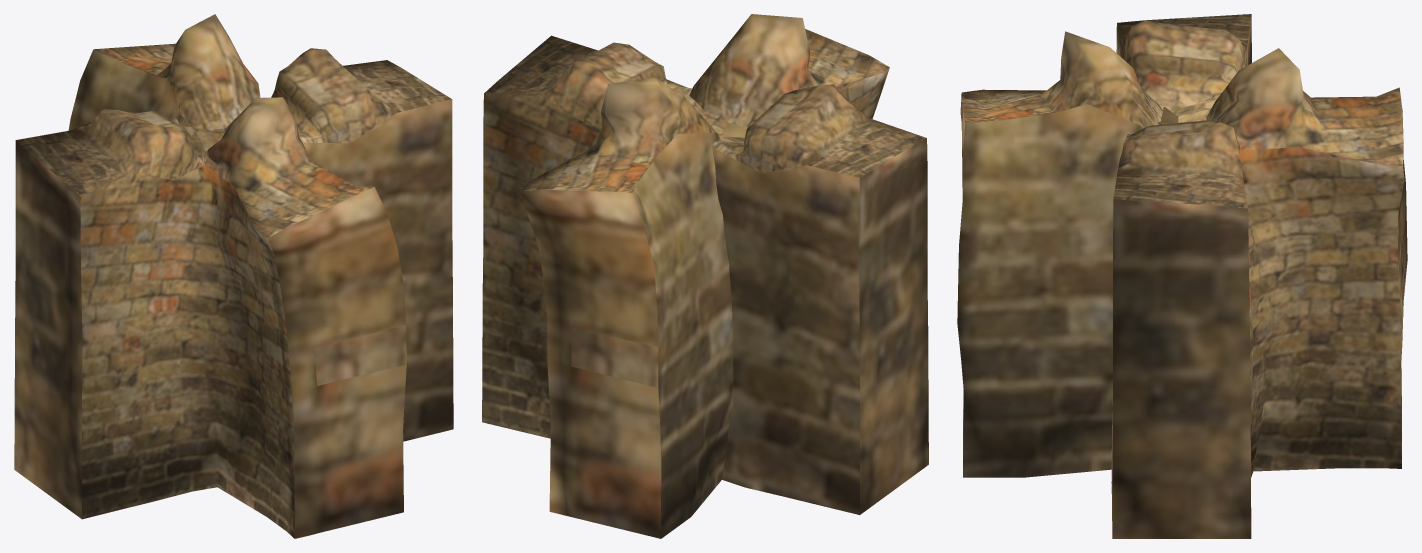
The model's file is cross_chaped.glb.
3 renders of one model, left to right at view 1: azimuth 30°, elevation 25°; view 2: azimuth 150°, elevation 25°; view 3: azimuth 270°, elevation 25°, orthographic. The views are drawn at different scales.
Visible parts, largest first — view 1: fence.006; view 2: fence.006; view 3: fence.006.
Boxes of the visible parts, x1,y1,x2,y2 form: fence.006: [14, 14, 453, 538]; fence.006: [482, 14, 928, 538]; fence.006: [957, 14, 1407, 538].
Bounding box in the file's own units: 0.9998 × 1.01 × 1.02.
1 material, 1 textured.
